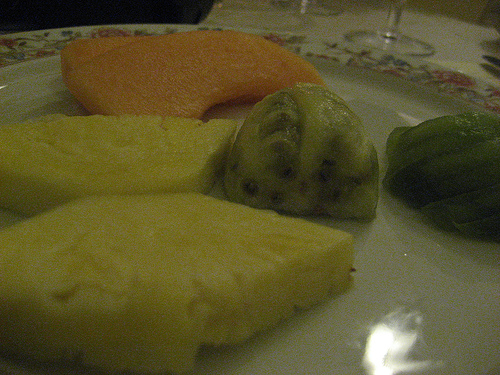pineapple: (2, 193, 356, 374), (0, 112, 237, 215)
